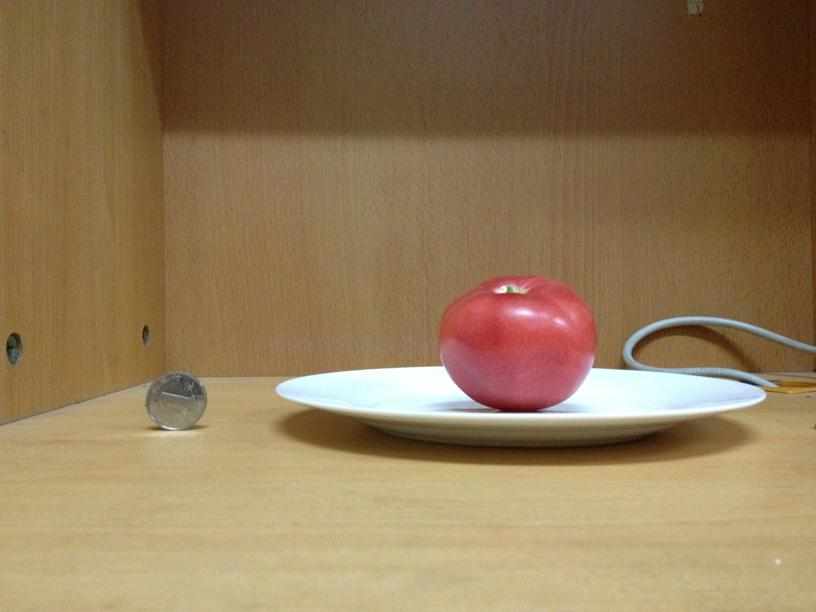coin: (136, 373, 209, 429)
tomato: (431, 276, 599, 412)
